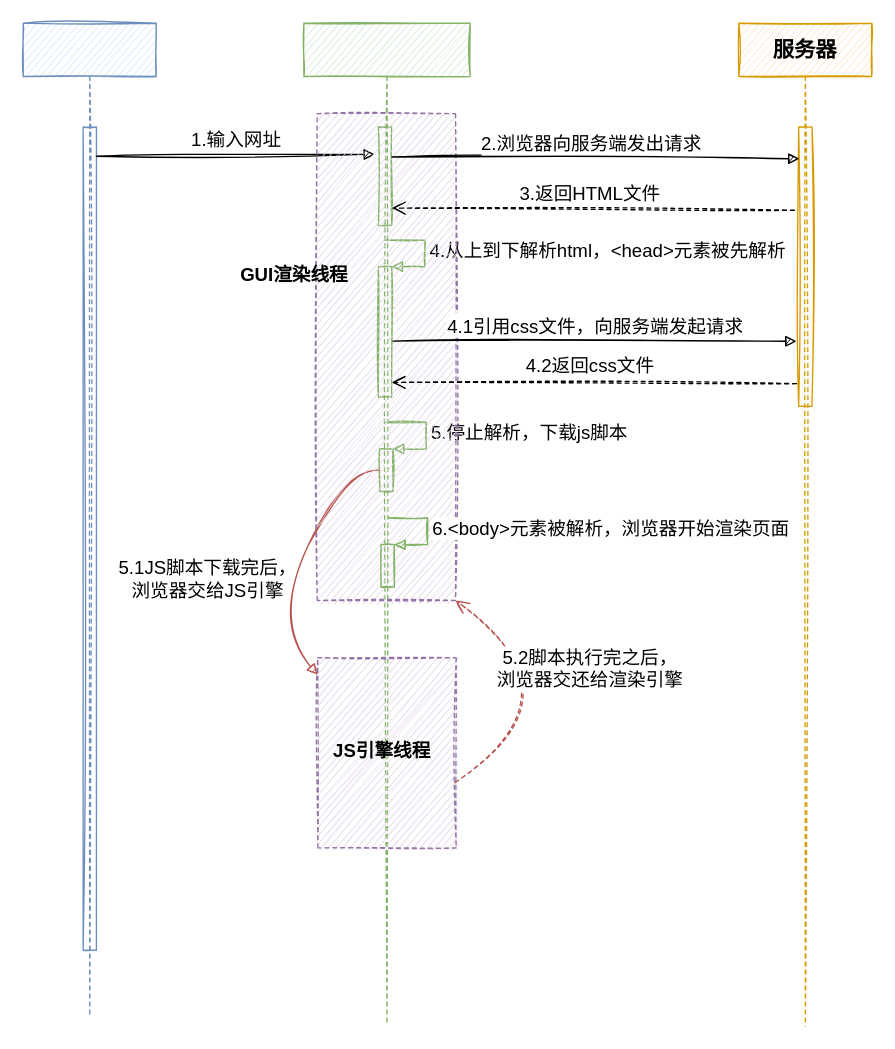
The diagram is 895 pixels wide and 1049 high, and some of its shapes have lost their labels. The shapes that lost their labels are listed below. From the top down, each one's box as (x1, y1, x2, y2) in pixels, then its label:
(22, 22, 156, 1017): 用 户
(303, 22, 470, 1022): 浏览器
